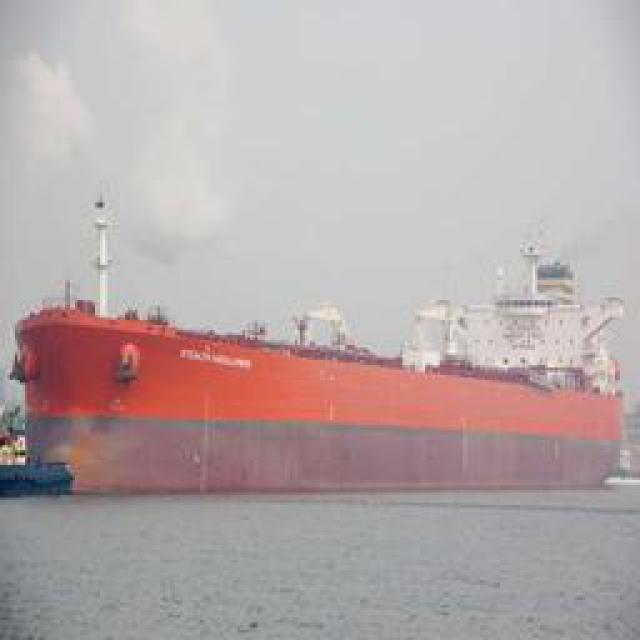Ship: (21, 237, 624, 487)
